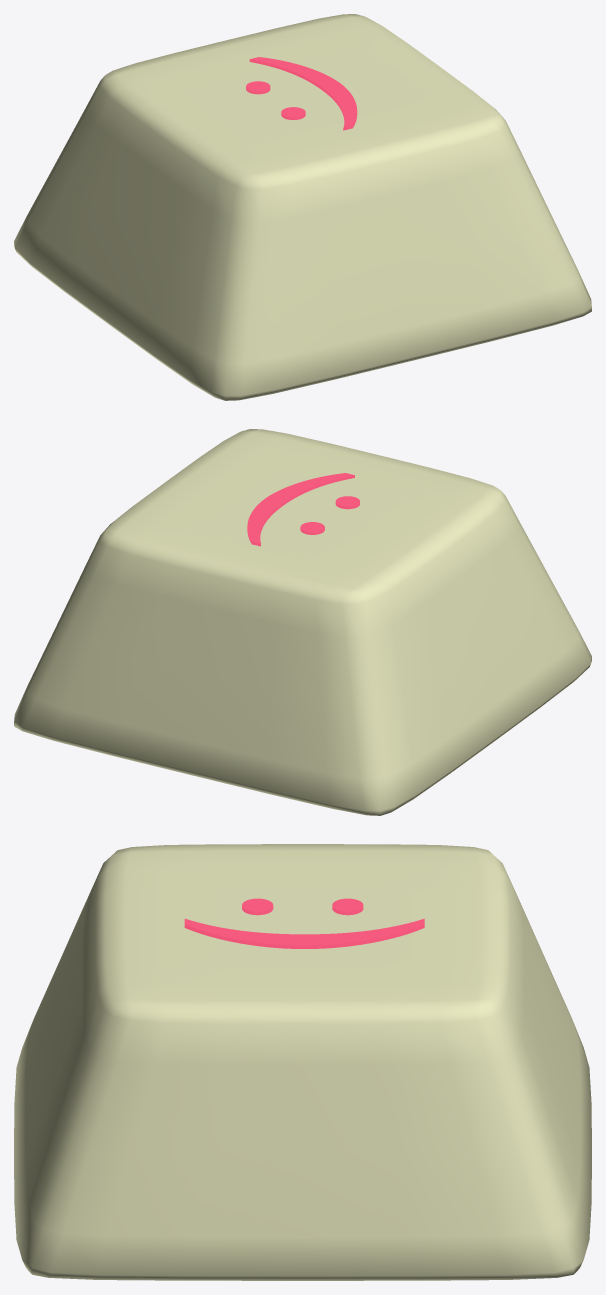
The model's file is keyX.glb.
3 views of the same model, one above another, from view 1: azimuth 30°, elevation 25°; view 2: azimuth 150°, elevation 25°; view 3: azimuth 270°, elevation 25° (orthographic). The views are drawn at different scales.
Parts seen in each view (by area): view 1: Cube, Text; view 2: Cube, Text; view 3: Cube, Text.
Part boxes in pixels (x1,y1,x2,y2): Cube: (14,14,591,400); Text: (246,57,357,130); Cube: (14,429,591,815); Text: (247,473,359,546); Cube: (14,844,591,1280); Text: (184,898,424,948).
Bounding box in the file's own units: 1.97 × 0.9057 × 1.97.
